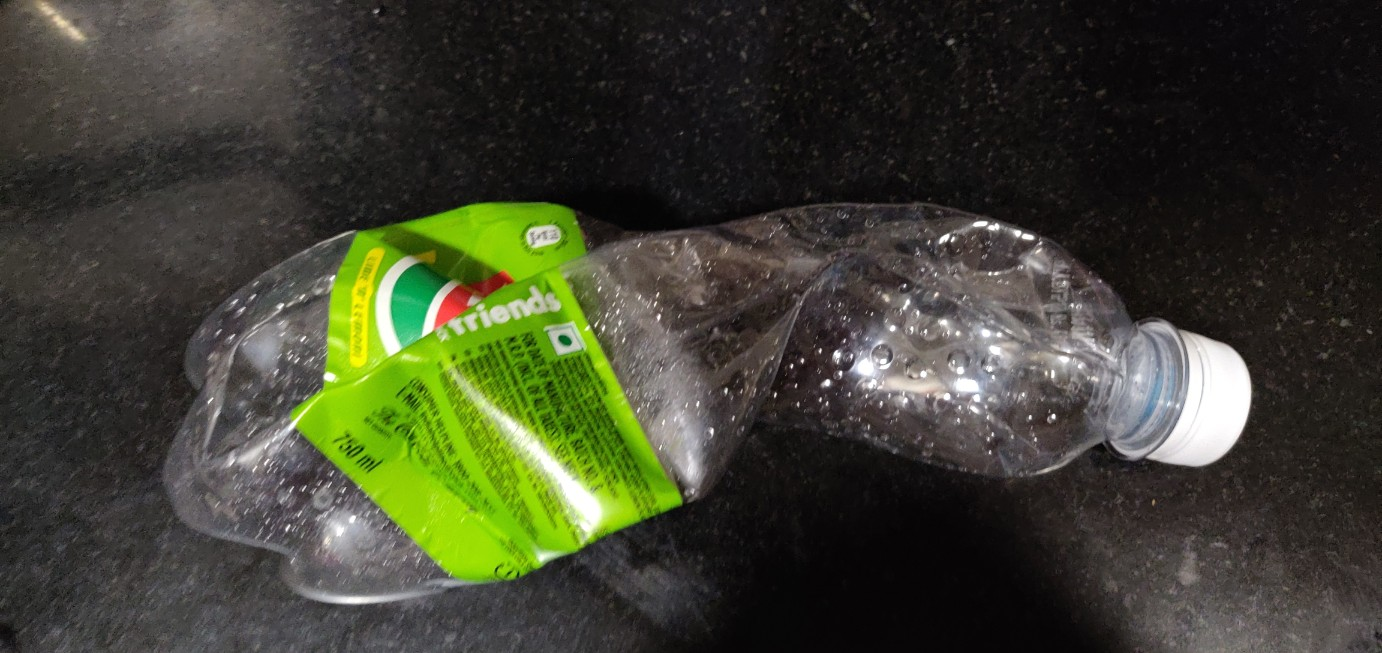Electronics: (133, 173, 1272, 627)
